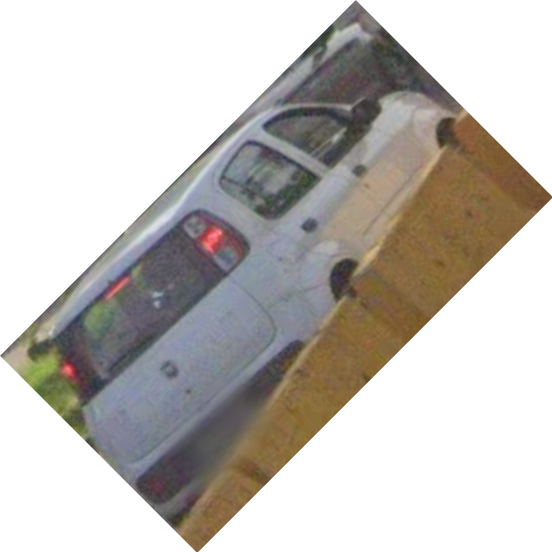car: (52, 89, 459, 476)
